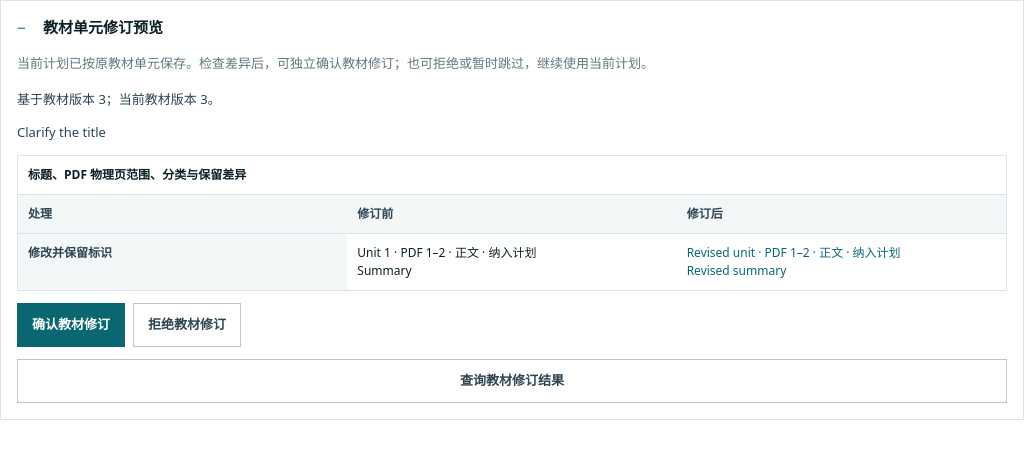
Test: lost acceptance response disables decisions until query-only read-back
What coordinates should you click on to do the following:
click the button "确认教材修订"
I would click on:
 (71, 325)
Its box is [17, 303, 125, 347].
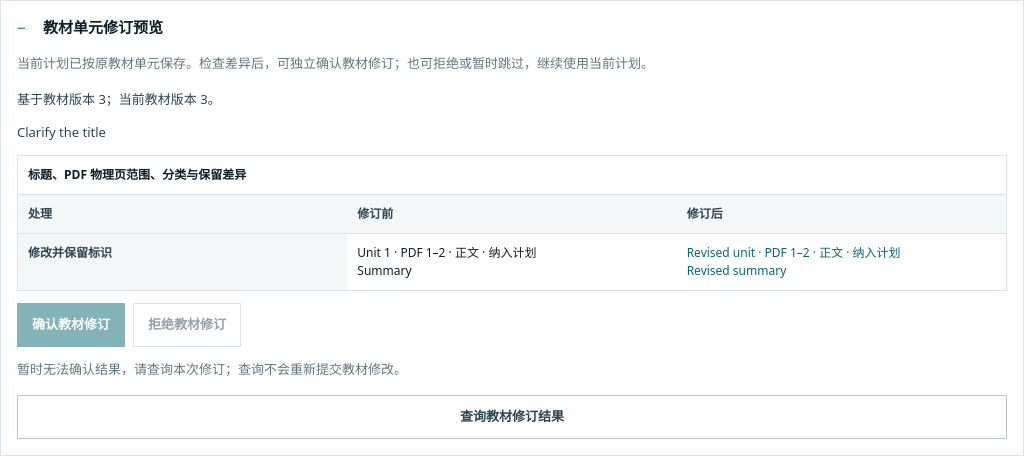
Now the text "暂时无法确认结果" is shown, box [17, 360, 407, 378]
What coordinates should you click on to do the following:
click the button "查询教材修订结果"
I would click on:
 (512, 417)
Its box is [17, 395, 1007, 439].
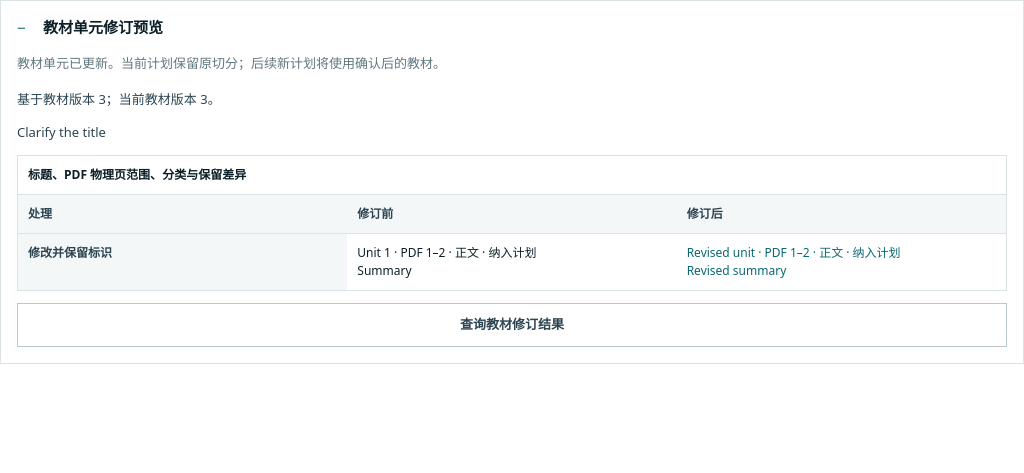
Now the text "教材单元已更新" is shown, box [17, 54, 446, 72]
